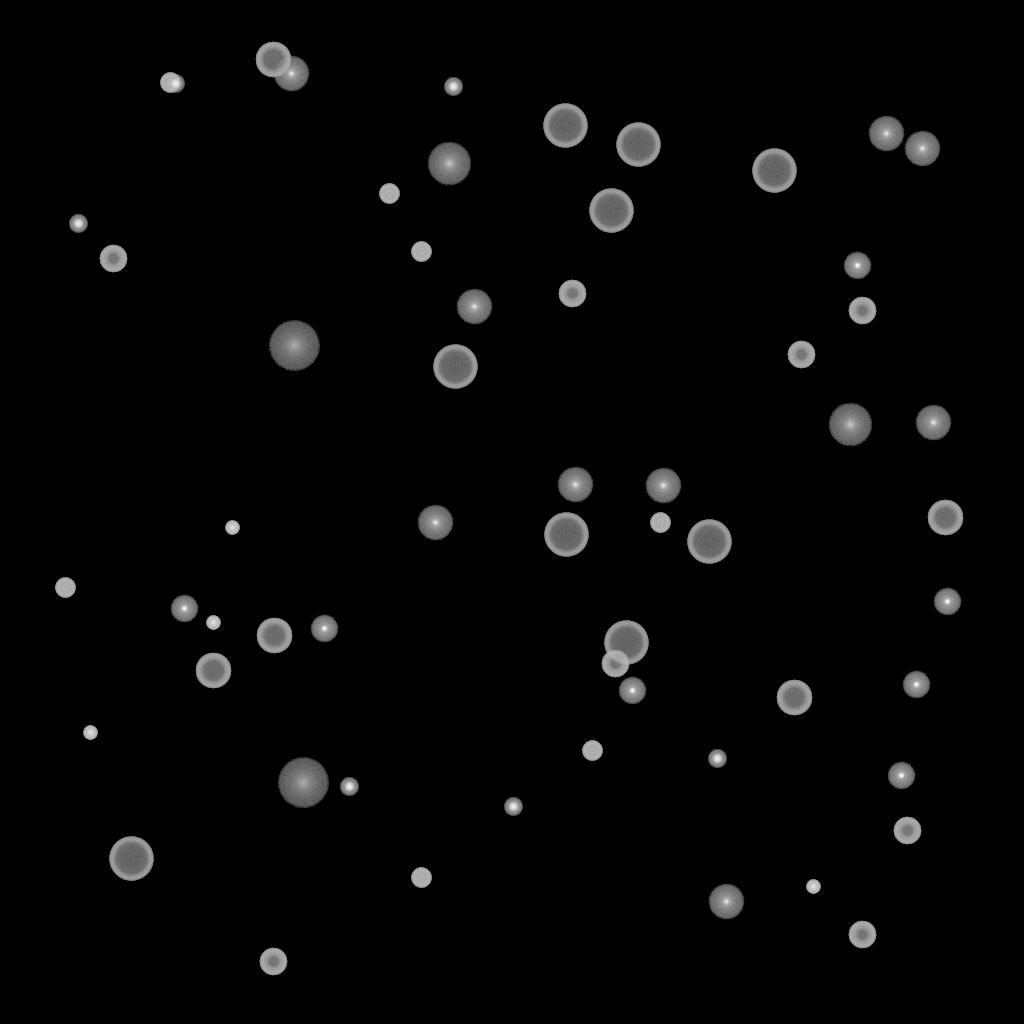depth:-10: (618, 677, 646, 705), (170, 595, 198, 623), (843, 252, 871, 280), (933, 588, 961, 616), (310, 615, 338, 643), (887, 762, 915, 790), (902, 671, 930, 699)
depth:-20: (340, 778, 358, 796), (69, 215, 87, 233), (444, 78, 462, 96), (166, 75, 184, 93), (708, 750, 726, 768), (504, 798, 522, 816)
depth:-30: (225, 521, 239, 535), (83, 726, 97, 740), (206, 616, 220, 630), (806, 880, 820, 894)
depth:-40: (379, 184, 399, 204), (160, 73, 180, 93), (411, 868, 431, 888), (650, 513, 670, 533), (582, 741, 602, 761), (55, 578, 75, 598), (411, 242, 431, 262)
depth:-50: (99, 245, 127, 273), (848, 297, 876, 325), (601, 650, 629, 678), (893, 817, 921, 845), (848, 921, 876, 949), (787, 341, 815, 369), (259, 948, 287, 976), (558, 280, 586, 308)
depth:-60: (255, 42, 291, 78), (195, 653, 231, 689), (256, 618, 292, 654), (927, 500, 963, 536), (776, 680, 812, 716)
depth:-70: (752, 149, 796, 193), (544, 513, 588, 557), (616, 123, 660, 167), (433, 345, 477, 389), (687, 520, 731, 564), (543, 104, 587, 148), (589, 189, 633, 233), (604, 621, 648, 665), (109, 837, 153, 881)
depth:0: (273, 56, 309, 92), (557, 467, 593, 503), (417, 505, 453, 541), (456, 289, 492, 325), (868, 116, 904, 152), (708, 884, 744, 920), (904, 131, 940, 167), (915, 405, 951, 441), (645, 468, 681, 504)
depth:10: (427, 142, 471, 186), (828, 403, 872, 447)
depth:20: (268, 321, 320, 371), (277, 758, 329, 808)
